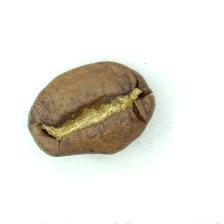NG: (40, 83, 153, 159)
